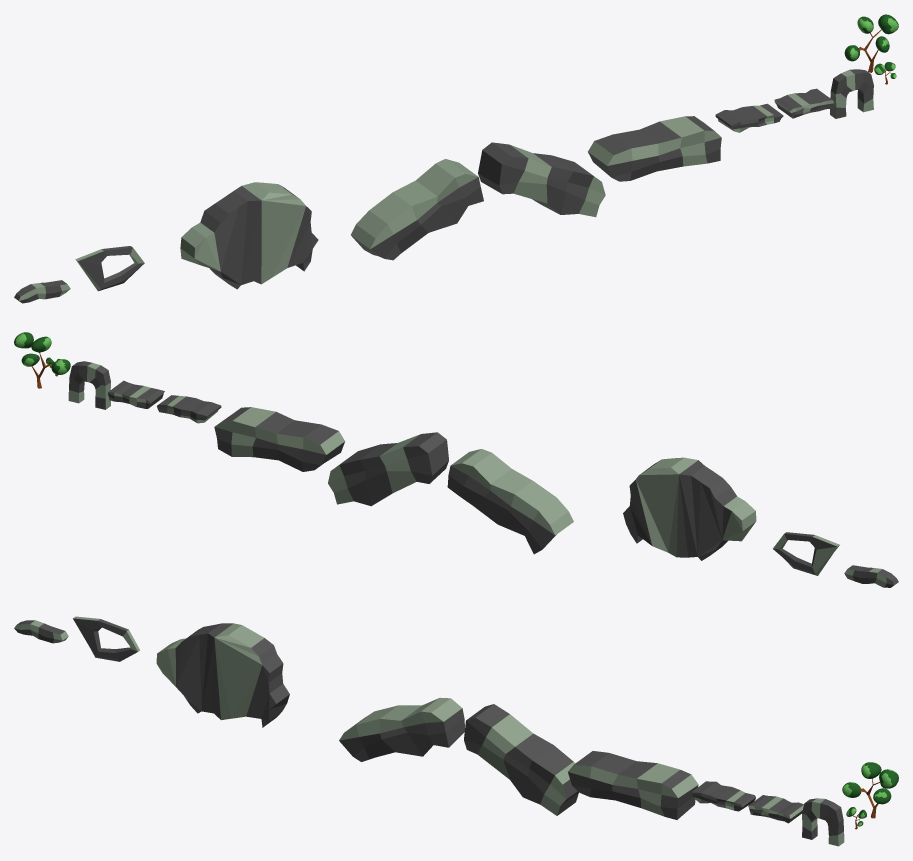
Rendered from environment.fbx.
3 renders of one model, top to bottom at view 1: azimuth 30°, elevation 25°; view 2: azimuth 150°, elevation 25°; view 3: azimuth 330°, elevation 25°, orthographic. The views are drawn at different scales.
Visible parts, largest first — view 1: stone_6_large, stone_05_large, stone_04_large, stone_03_large, gate, stone_07_middle_free, stone_02, tree_02, stone_01, stone_08; view 2: stone_6_large, stone_05_large, stone_04_large, stone_03_large, gate, stone_07_middle_free, stone_02, tree_02, stone_01, stone_08; view 3: stone_6_large, stone_04_large, stone_03_large, stone_05_large, gate, stone_07_middle_free, tree_02, stone_02, stone_01, stone_08.
Boxes of the visible parts, <box> form: stone_6_large: <box>180,182,318,289</box>; stone_05_large: <box>351,159,483,260</box>; stone_04_large: <box>478,142,605,217</box>; stone_03_large: <box>588,116,721,181</box>; gate: <box>830,69,873,118</box>; stone_07_middle_free: <box>75,246,144,291</box>; stone_02: <box>715,103,783,132</box>; tree_02: <box>844,14,898,72</box>; stone_01: <box>774,88,834,118</box>; stone_08: <box>14,280,70,303</box>; stone_6_large: <box>623,457,756,560</box>; stone_05_large: <box>447,449,573,554</box>; stone_04_large: <box>328,432,448,506</box>; stone_03_large: <box>214,407,344,471</box>; gate: <box>68,361,110,409</box>; stone_07_middle_free: <box>773,532,839,575</box>; stone_02: <box>157,395,221,423</box>; tree_02: <box>14,332,70,388</box>; stone_01: <box>107,380,164,408</box>; stone_08: <box>844,565,898,587</box>; stone_6_large: <box>156,623,289,727</box>; stone_04_large: <box>464,704,578,815</box>; stone_03_large: <box>568,751,698,819</box>; stone_05_large: <box>339,697,464,761</box>; gate: <box>802,798,844,846</box>; stone_07_middle_free: <box>73,616,139,661</box>; tree_02: <box>842,762,898,818</box>; stone_02: <box>691,781,755,811</box>; stone_01: <box>748,795,803,823</box>; stone_08: <box>14,620,68,643</box>.
Bounding box in the file's own units: 18762 × 2263 × 1600.
